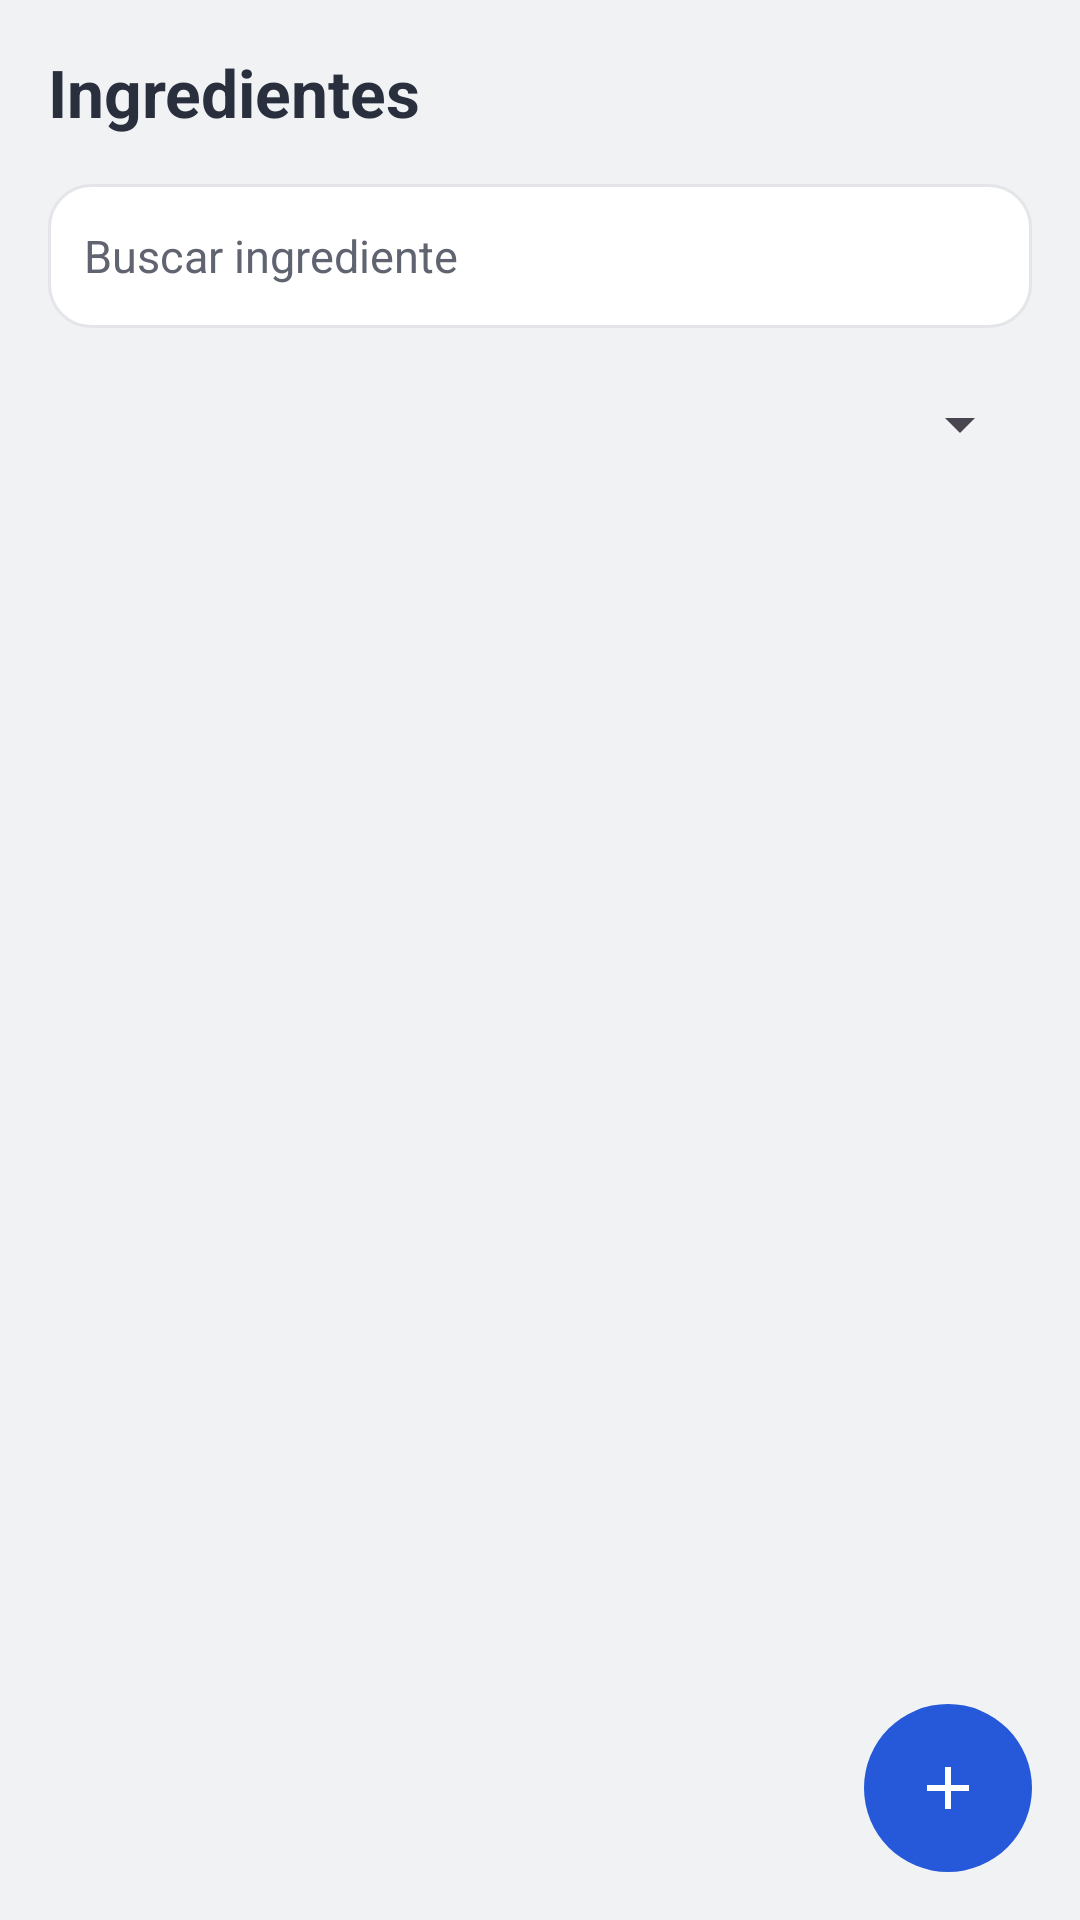

Named icons in this screenshot (1080×1920) and their bounding boxes, (x1, y1, x2, y2):
Nuevo ingrediente: (864, 1704, 1032, 1872)
